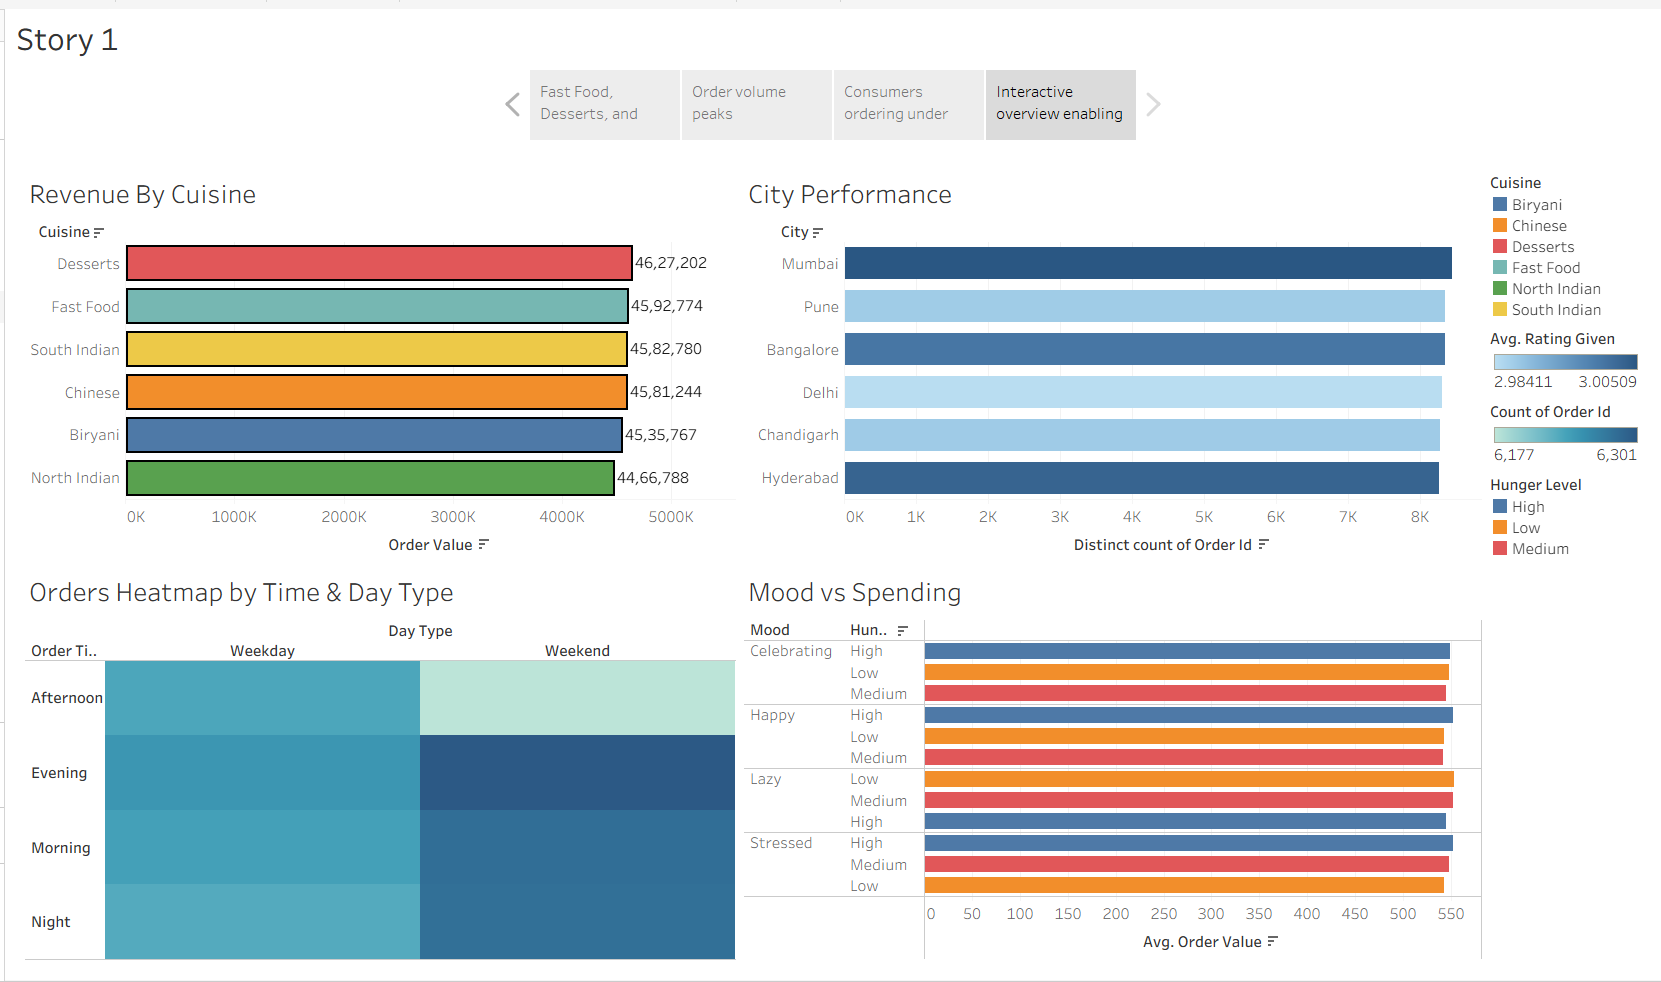

Layout of this report page (visuals, bound fields, positions):
{"tool":"tableau","page":{"name":"Consumer Insights Dashboard","canvas":[1000,1000],"units":"permille","ordinal":0},"visuals":[{"type":"title","box":[4.8,8.2,990.3,47.4]},{"type":"worksheet","title":"Revenue By Cuisine","mark":"Automatic","rows":["cuisine"],"cols":["order_value"],"box":[4.8,55.6,438.7,468]},{"type":"worksheet","title":"City Performance","mark":"Automatic","rows":["city"],"cols":["order_id"],"box":[443.6,55.6,455.1,468]},{"type":"legend","title":"Revenue By Cuisine","param":"[federated.0v583si1q6xg4q17wfnia03r80q6].[none:cuisine:nk]","box":[898.6,55.6,96.6,160.7]},{"type":"legend","title":"City Performance","param":"[federated.0v583si1q6xg4q17wfnia03r80q6].[avg:rating_given:qk]","box":[898.6,216.3,96.6,75.2]},{"type":"legend","title":"Orders Heatmap by Time & Day Type","param":"[federated.0v583si1q6xg4q17wfnia03r80q6].[cnt:order_id:qk]","box":[898.6,291.4,96.6,75.2]},{"type":"legend","title":"Mood vs Spending","param":"[federated.0v583si1q6xg4q17wfnia03r80q6].[none:hunger_level:nk]","box":[898.6,366.6,96.6,95.8]},{"type":"worksheet","title":"Orders Heatmap by Time & Day Type","mark":"Automatic","rows":["order_time"],"cols":["day_type"],"box":[4.8,523.6,438.7,468.1]},{"type":"worksheet","title":"Mood vs Spending","mark":"Bar","rows":["mood","hunger_level"],"cols":["order_value"],"box":[443.6,523.6,455.1,468.1]}]}

Visuals, with their boxes on the dashboard's canvas, which has no fixed pixel size, in thousandths of its width and height (x1, y1, x2, y2). These are canvas units, not pixel positions in the 1661x982 screenshot, which may show the page scaled, cropped or inside an application window:
title: bbox=[5, 8, 995, 56]
"Revenue By Cuisine" worksheet: bbox=[5, 56, 444, 524]
"City Performance" worksheet: bbox=[444, 56, 899, 524]
"Revenue By Cuisine" legend: bbox=[899, 56, 995, 216]
"City Performance" legend: bbox=[899, 216, 995, 292]
"Orders Heatmap by Time & Day Type" legend: bbox=[899, 291, 995, 367]
"Mood vs Spending" legend: bbox=[899, 367, 995, 462]
"Orders Heatmap by Time & Day Type" worksheet: bbox=[5, 524, 444, 992]
"Mood vs Spending" worksheet (Bar marks): bbox=[444, 524, 899, 992]
